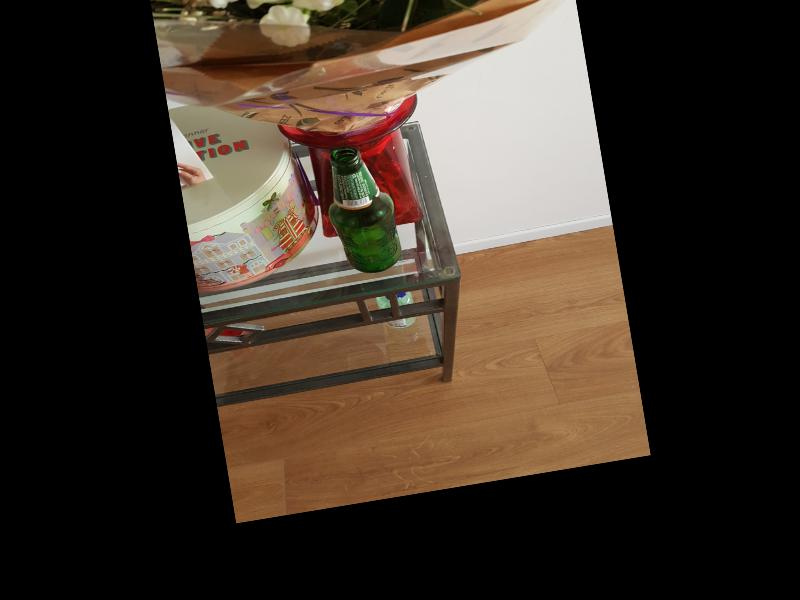Beer: (318, 141, 405, 279)
